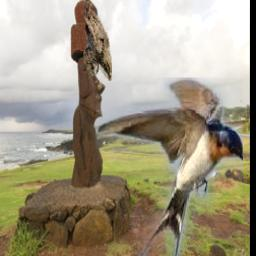Sparrow: (81, 0, 112, 81)
Swallow: (97, 79, 244, 256)
